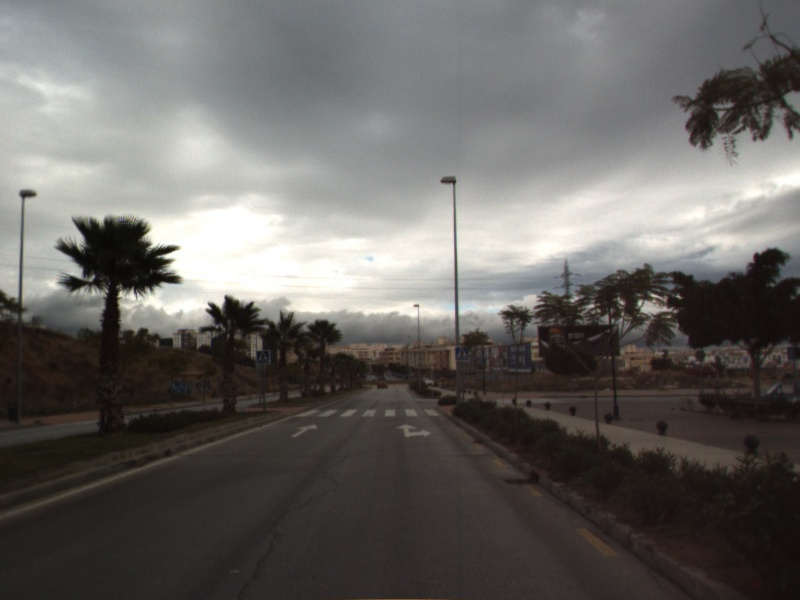STRAIGHT: (289, 422, 321, 439)
STRAIGHT_RIGHT: (394, 421, 433, 439)
